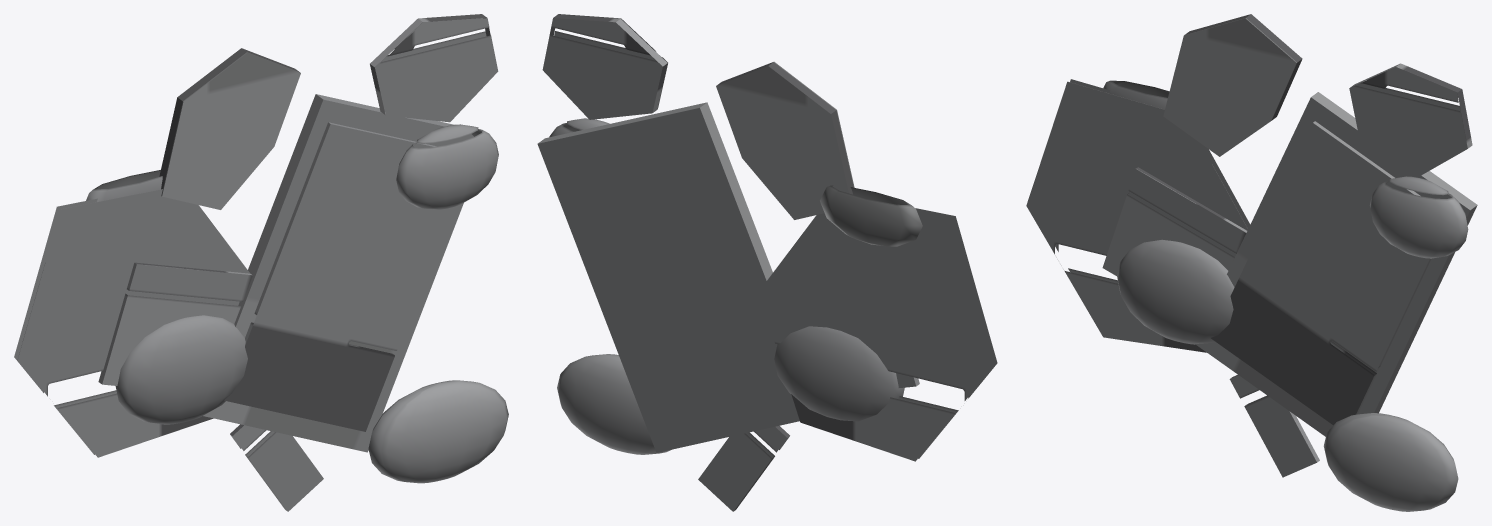
The picture shows the model from 3 angles, left to right: view 1: azimuth 30°, elevation 25°; view 2: azimuth 150°, elevation 25°; view 3: azimuth 330°, elevation 25°; orthographic projection. The views are drawn at different scales.
Bounding box in the file's own units: 0.9509 × 0.904 × 0.1533.
